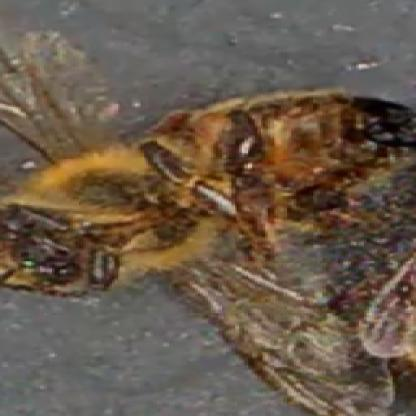bee: (4, 89, 416, 287)
